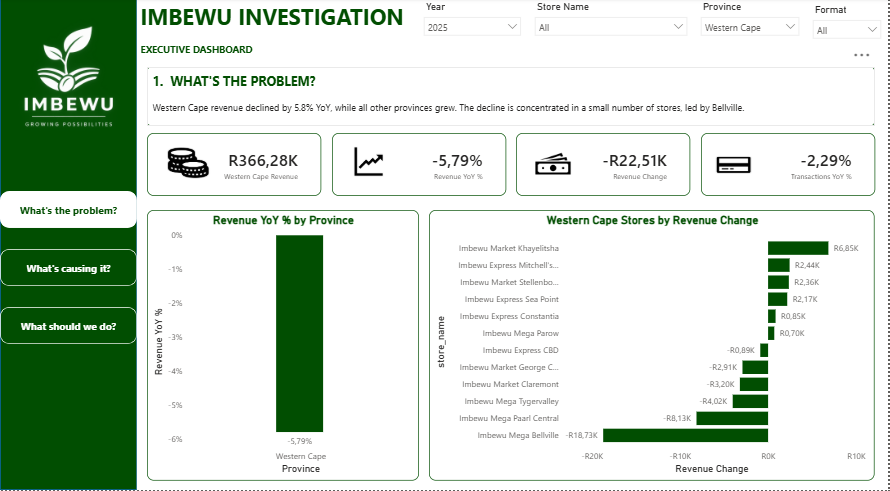

Layout of this report page (visuals, bound fields, positions):
{"tool":"powerbi","page":{"name":"What's the problem","canvas":[1300,720],"ordinal":0},"visuals":[{"type":"shape","box":[0,0,200.5,720],"z":0},{"type":"image","box":[0,0,200.5,229.8],"z":1000},{"type":"shape","box":[0,282.4,200.5,54.1],"z":2000},{"type":"shape","box":[0,367.3,200.5,54.1],"z":3000},{"type":"shape","box":[0,452.2,200.5,54.1],"z":4000},{"type":"textbox","box":[200.5,0,1080,101],"z":5000},{"type":"slicer","fields":{"Values":["Date.Year"]},"box":[610.2,0,162.4,64.4],"z":6000},{"type":"slicer","fields":{"Values":["stores.province"]},"box":[1015.6,0,163.9,64.4],"z":7000},{"type":"slicer","fields":{"Values":["stores.format"]},"box":[1179.5,4.4,120,64.4],"z":8000},{"type":"slicer","fields":{"Values":["stores.store_name"]},"box":[772.7,0,242.9,73.2],"z":9000},{"type":"textbox","box":[215.1,101,1065.4,86.3],"z":10000},{"type":"cardVisual","fields":{"Data":["Measure.WC Revenue"]},"box":[215.1,197.6,254.6,92.2],"z":11000},{"type":"image","box":[228.3,209.3,90.7,62.9],"z":12000},{"type":"cardVisual","fields":{"Data":["Measure.Revenue YoY %"]},"box":[485.4,197.6,254.6,92.2],"z":13000},{"type":"cardVisual","fields":{"Data":["Measure.Revenue Change"]},"box":[755.6,197.6,254.6,92.2],"z":14000},{"type":"cardVisual","fields":{"Data":["Measure.Transactions YoY %"]},"box":[1025.9,197.6,254.6,92.2],"z":15000},{"type":"clusteredColumnChart","title":"Revenue YoY % by Province ","fields":{"Y":["Measure.Revenue YoY %"],"Category":["stores.province"]},"box":[214.8,311,397.5,395.9],"z":16000},{"type":"barChart","title":"Western Cape Stores by Revenue Change","fields":{"Category":["stores.store_name"],"Y":["Measure.Revenue Change"]},"box":[628.4,311,652.4,395.9],"z":17000},{"type":"image","box":[502,209.3,74.6,62.9],"z":18000},{"type":"image","box":[772.7,209.3,74.6,62.9],"z":19000},{"type":"image","box":[1036.1,212.2,74.6,62.9],"z":20000}]}

Visuals, with their boxes in screenshot pixels (x1, y1, x2, y2), scaled from the page's 1300x720 canvas onto the 890x491 screenshot:
shape: crop(0, 0, 137, 490)
image: crop(0, 0, 137, 157)
shape: crop(0, 193, 137, 229)
shape: crop(0, 250, 137, 287)
shape: crop(0, 308, 137, 345)
textbox: crop(137, 0, 877, 69)
slicer - Date.Year: crop(418, 0, 529, 44)
slicer - stores.province: crop(695, 0, 808, 44)
slicer - stores.format: crop(808, 3, 889, 47)
slicer - stores.store_name: crop(529, 0, 695, 50)
textbox: crop(147, 69, 877, 128)
cardVisual - Measure.WC Revenue: crop(147, 135, 322, 198)
image: crop(156, 143, 218, 186)
cardVisual - Measure.Revenue YoY %: crop(332, 135, 507, 198)
cardVisual - Measure.Revenue Change: crop(517, 135, 692, 198)
cardVisual - Measure.Transactions YoY %: crop(702, 135, 877, 198)
"Revenue YoY % by Province " clusteredColumnChart: crop(147, 212, 419, 482)
"Western Cape Stores by Revenue Change" barChart: crop(430, 212, 877, 482)
image: crop(344, 143, 395, 186)
image: crop(529, 143, 580, 186)
image: crop(709, 145, 760, 188)
